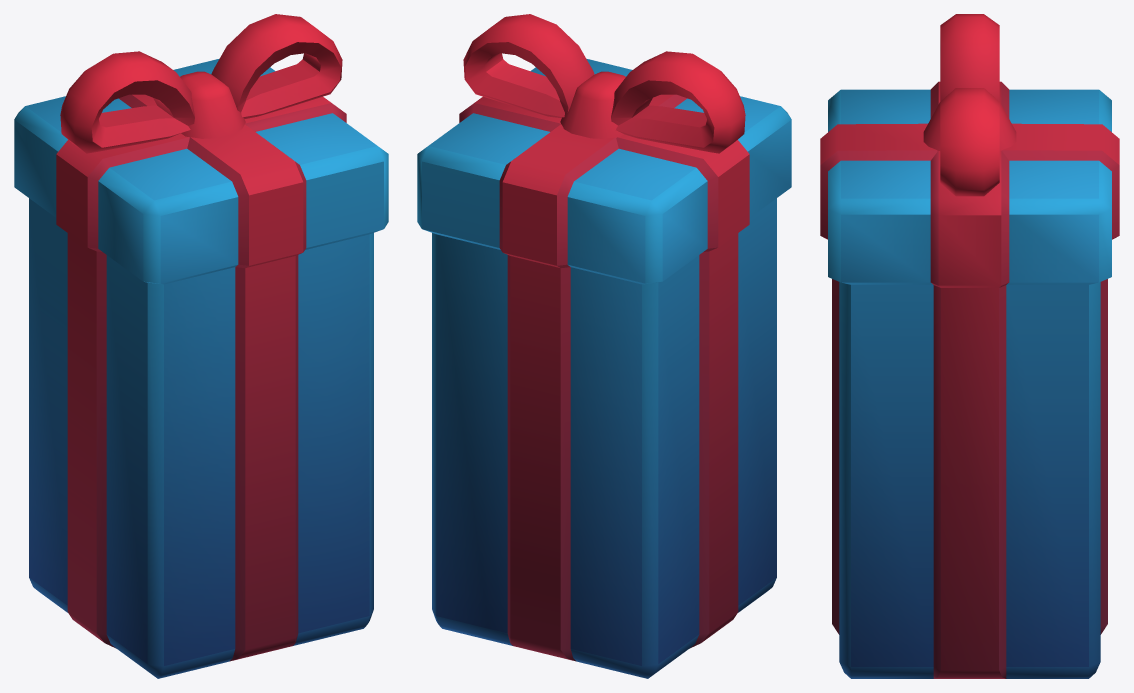
The model's file is present_B_blue.glb.
The picture shows the model from 3 angles, left to right: view 1: azimuth 30°, elevation 25°; view 2: azimuth 150°, elevation 25°; view 3: azimuth 270°, elevation 25°; orthographic projection.
Visible parts, largest first — view 1: present_B_blue; view 2: present_B_blue; view 3: present_B_blue.
Boxes of the visible parts, bbox=[...] form: present_B_blue: bbox=[14, 14, 388, 678]; present_B_blue: bbox=[417, 14, 791, 678]; present_B_blue: bbox=[820, 14, 1119, 678].
Bounding box in the file's own units: 0.5215 × 1.06 × 0.5038.
Materials: 1 (1 with a texture image).
